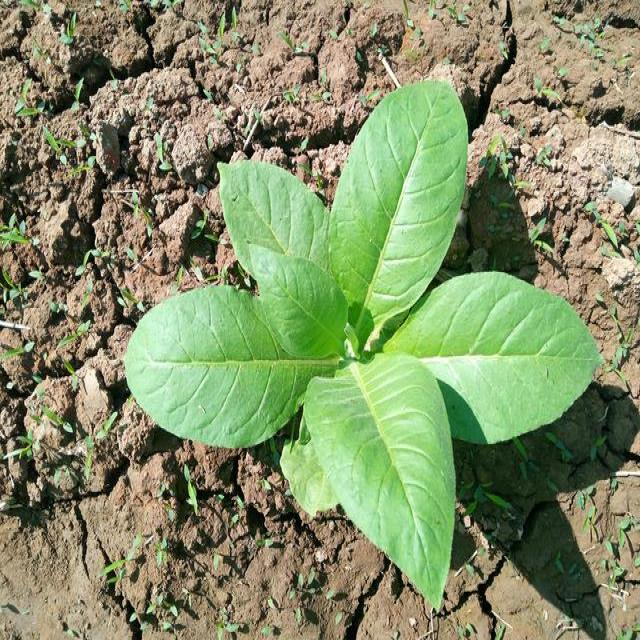crop: (122, 75, 600, 610)
